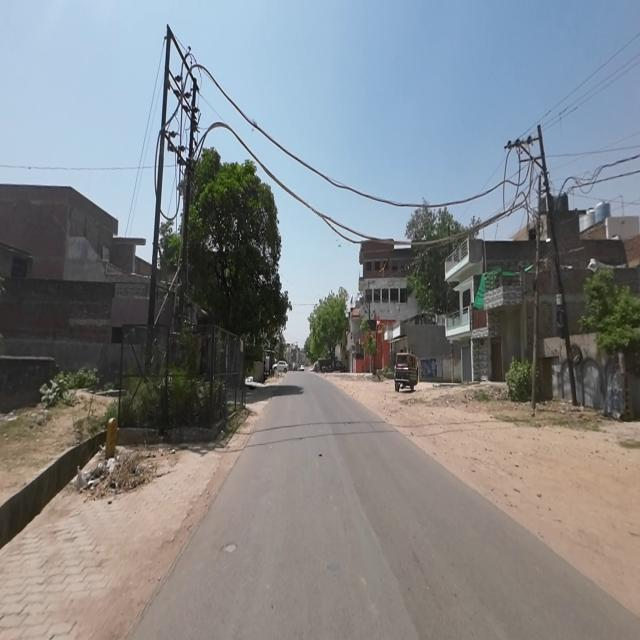Garbage: (78, 452, 152, 493)
